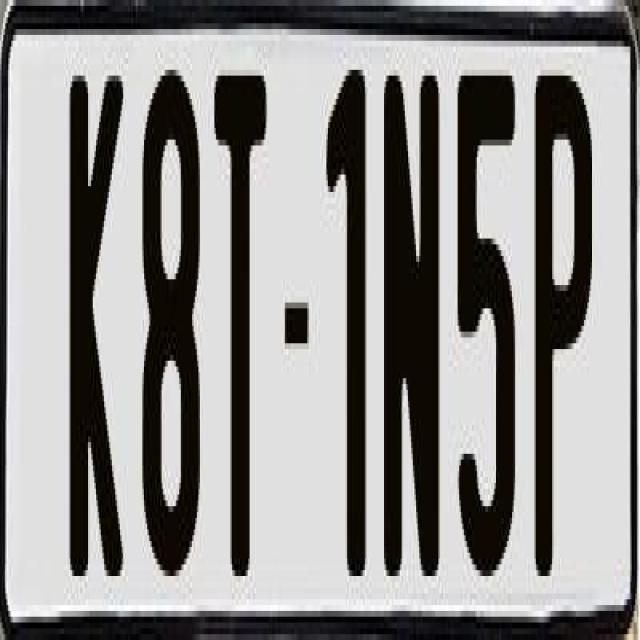1: (322, 52, 372, 564)
5: (458, 70, 520, 606)
8: (140, 70, 207, 606)
K: (67, 64, 130, 588)
N: (384, 75, 448, 588)
P: (530, 58, 594, 582)
T: (210, 75, 262, 606)
